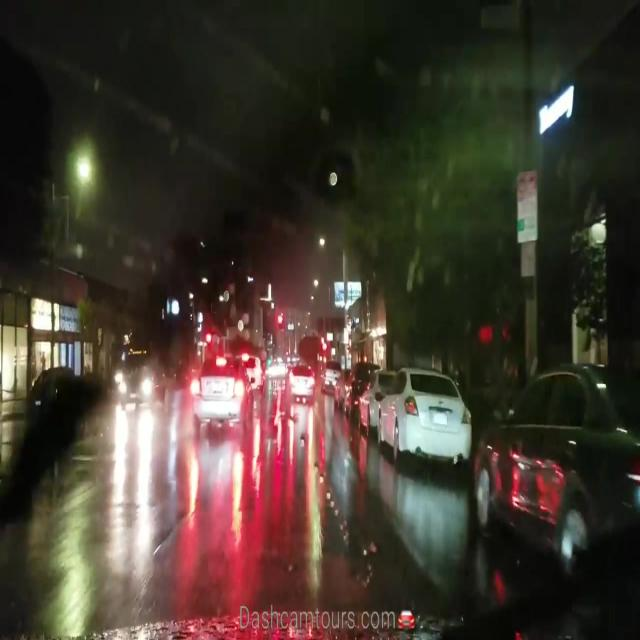Car: (473, 363, 632, 584), (375, 364, 470, 470), (189, 350, 250, 435), (115, 364, 168, 410), (284, 360, 315, 408)
